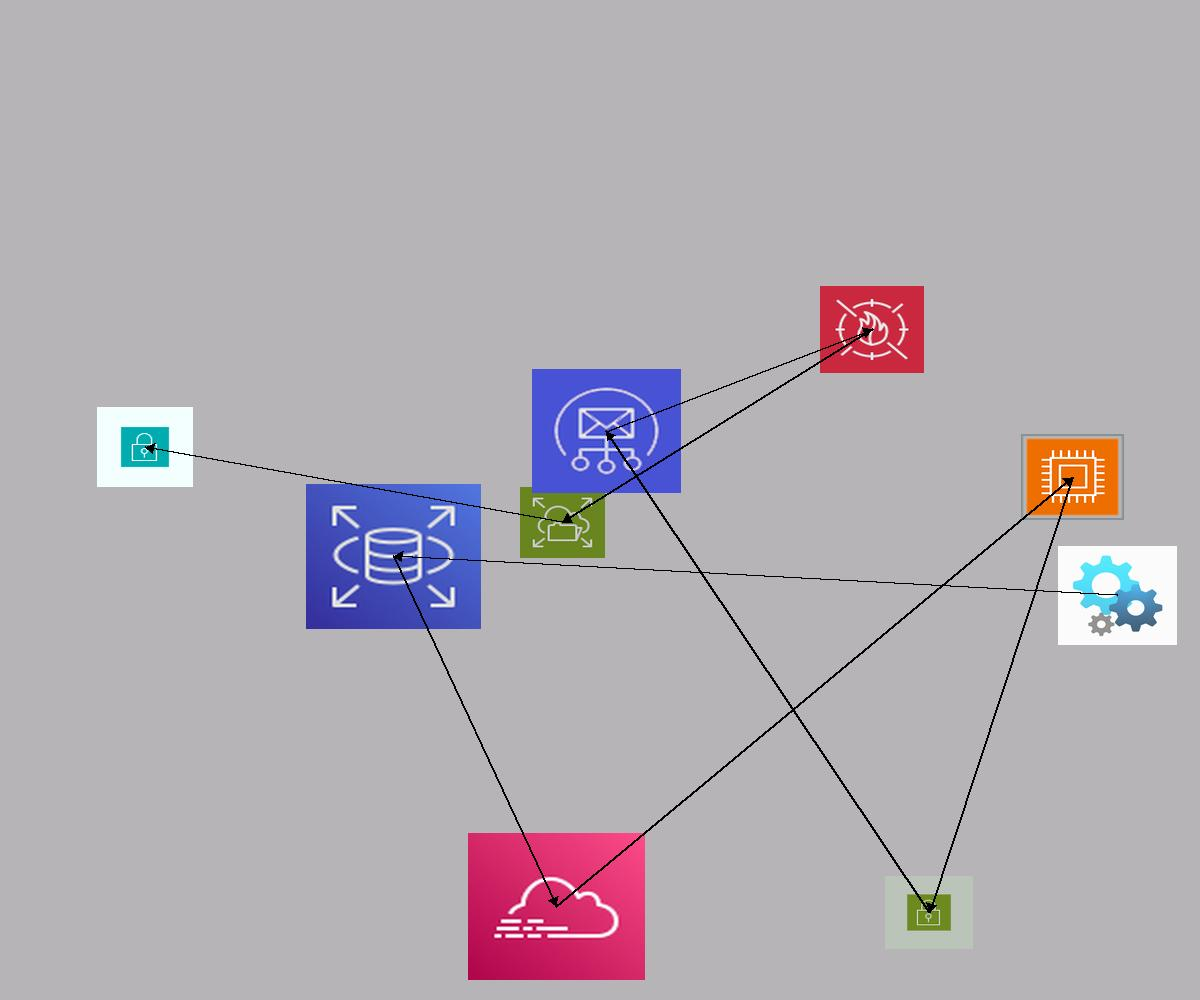AWS-Category_Compute: (1021, 434, 1124, 520)
AWS-CloudTrail: (468, 833, 645, 980)
AWS-EFS: (520, 487, 605, 558)
AWS-Private-subnet: (97, 407, 193, 487)
AWS-Public-subnet: (885, 876, 973, 949)
AWS-RDS: (306, 484, 481, 629)
AWS-Simple-Email-Service: (532, 369, 681, 493)
AWS-WAF: (820, 286, 924, 373)
Azure_api: (1058, 546, 1177, 645)
